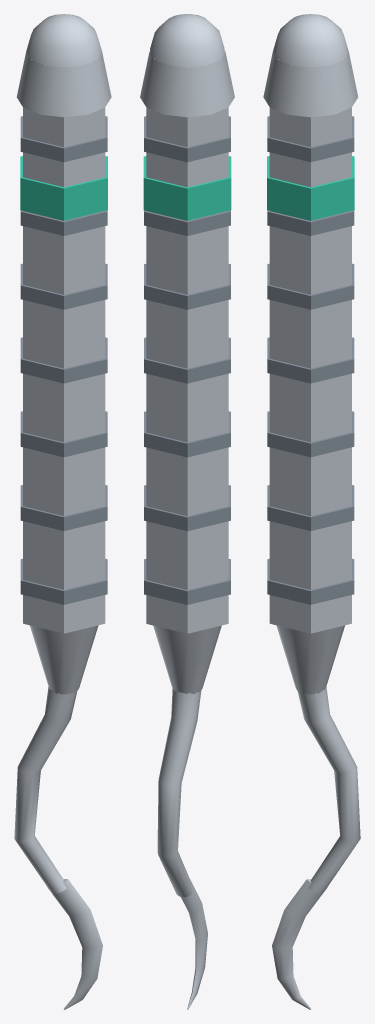
File: tool_scaler.glb
3 renders of one model, left to right at view 1: azimuth 90°, elevation 25°; view 2: azimuth 150°, elevation 25°; view 3: azimuth 270°, elevation 25°, orthographic.
Parts seen in each view (by area): view 1: tool_scaler; view 2: tool_scaler; view 3: tool_scaler.
Boxes of the visible parts, x1,y1,x2,y2 form: tool_scaler: (14,14,111,1009); tool_scaler: (140,14,234,1009); tool_scaler: (263,14,360,1009).
Size of the model in its own units: 0.8 by 8.65 by 0.7683.
